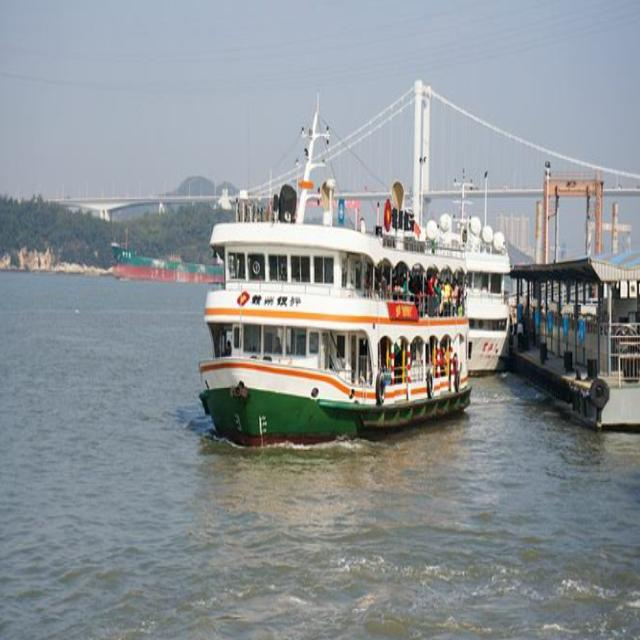passenger ship: (191, 204, 471, 438)
